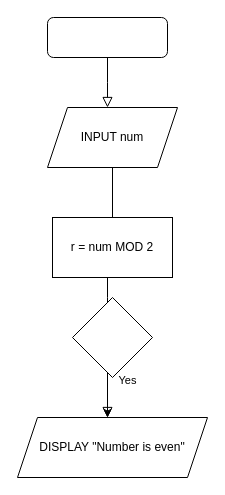
The diagram is 225 pixels wide and 495 high, and some of its shapes have lost their labels. The box of each missing label's shape, as (x1, y1, x2, y2) in pixels:
r = 0: (72, 296, 152, 378)
START: (46, 16, 168, 58)
